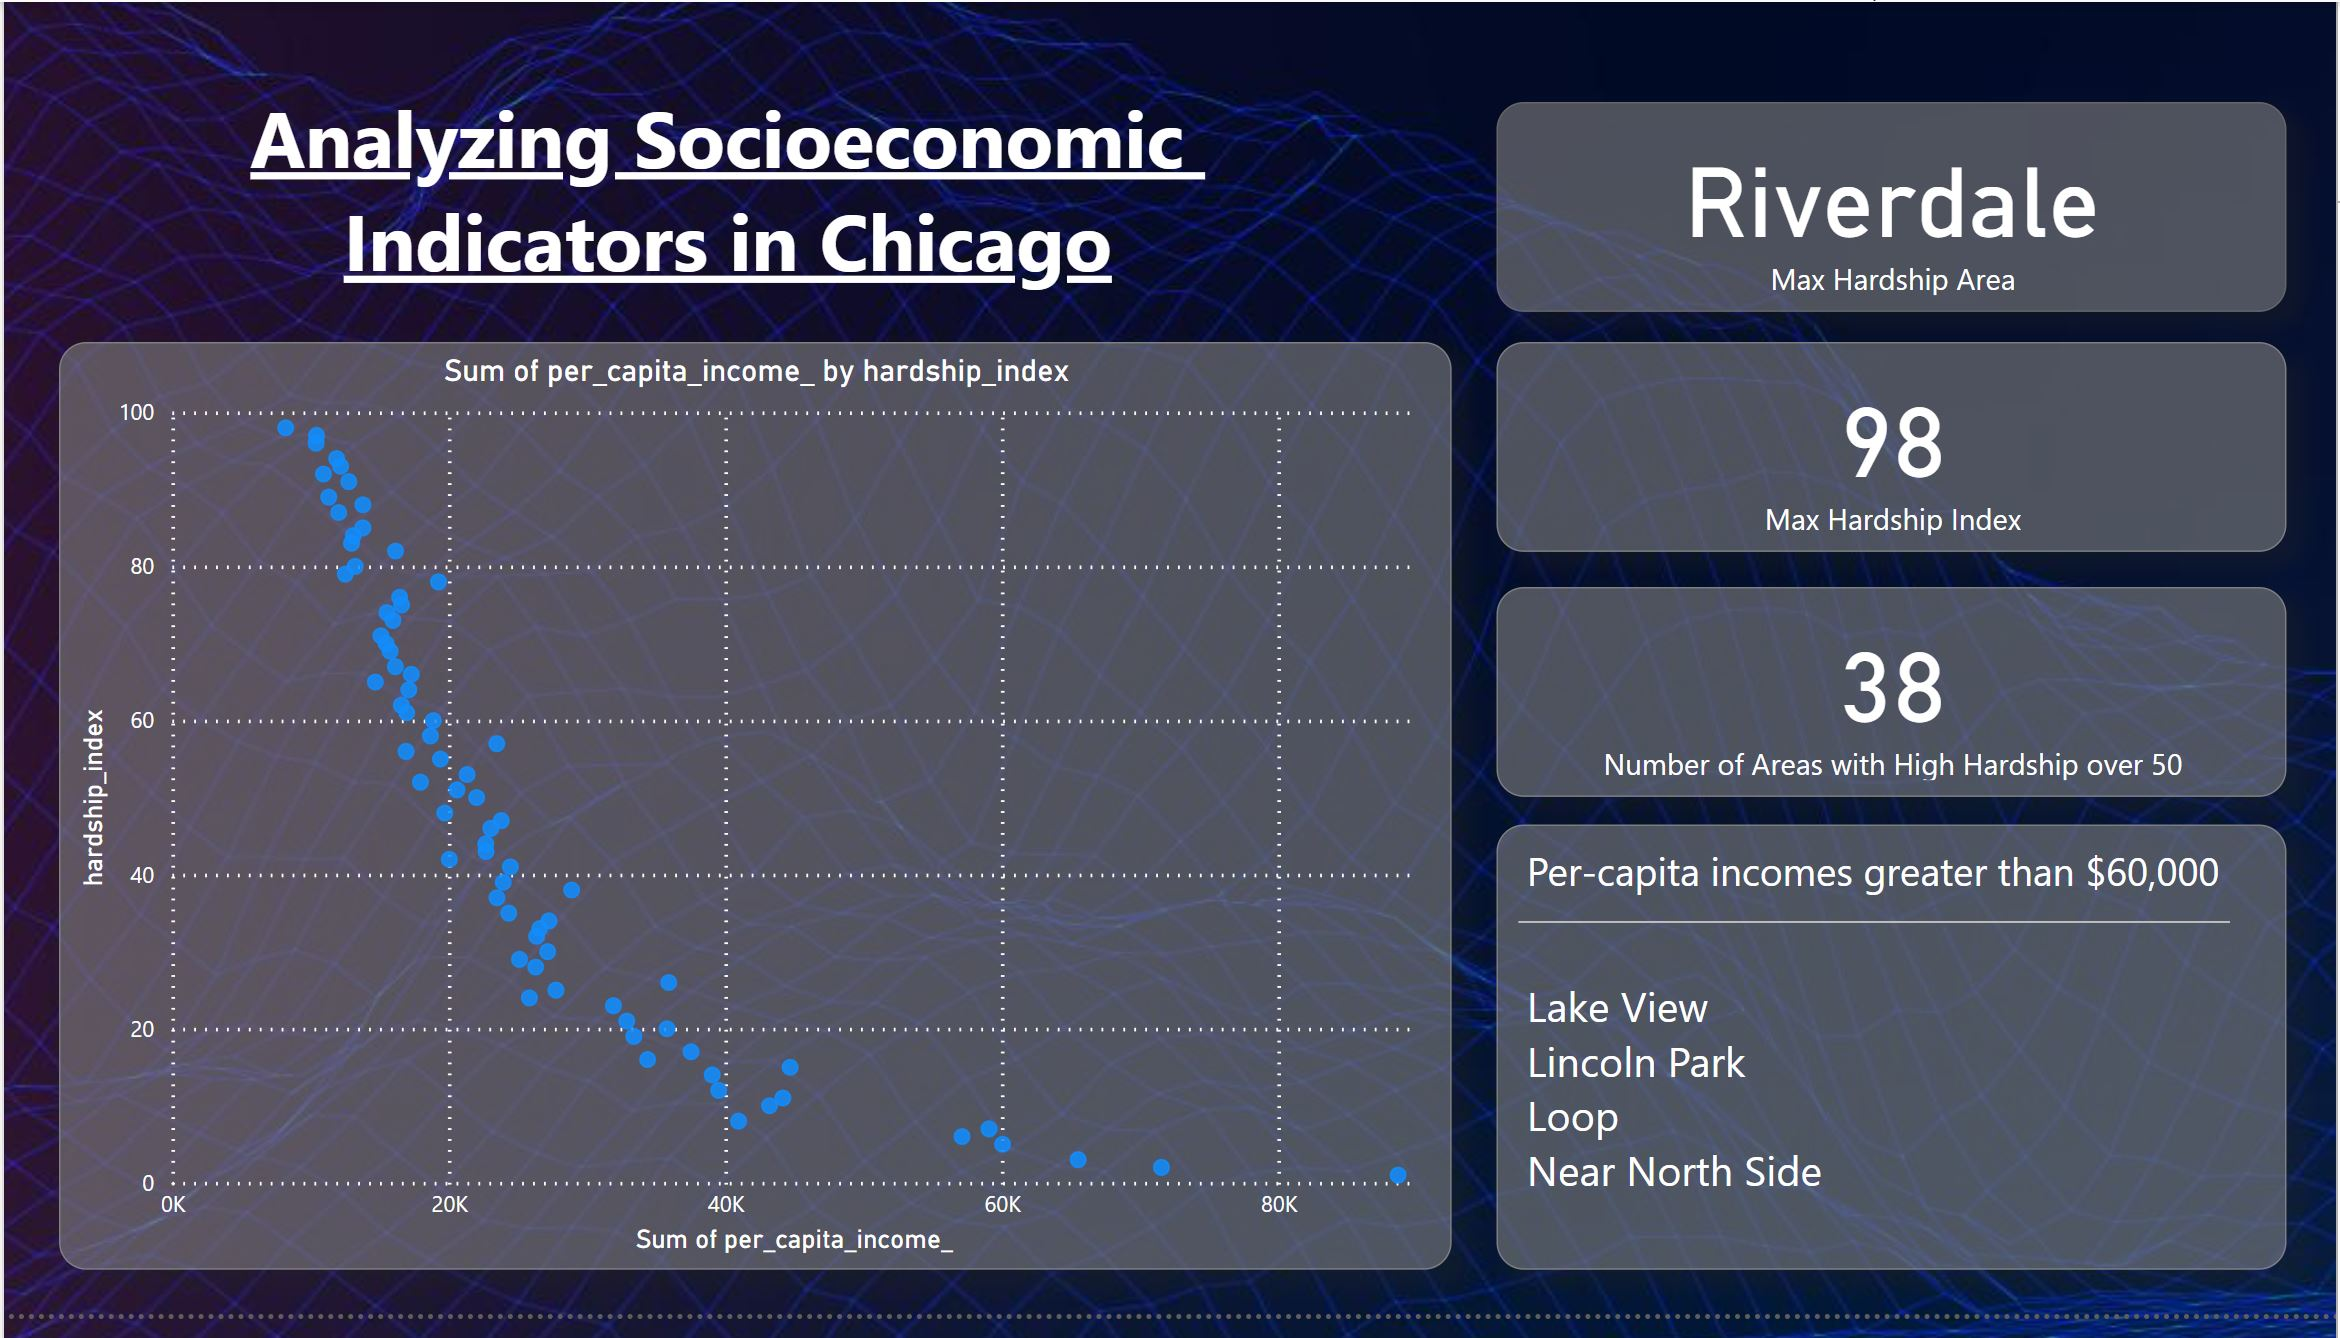

This screenshot's page, from the dashboard's own definition file:
{"tool":"powerbi","page":{"name":"Page 1","canvas":[1280,720],"ordinal":0},"visuals":[{"type":"scatterChart","fields":{"Y":["jcxq-k9xf.hardship_index"],"X":["Sum(jcxq-k9xf.per_capita_income_)"]},"box":[30.2,186.6,764.3,509.1],"z":0},{"type":"card","fields":{"Values":["jcxq-k9xf.Number of Areas with High Hardship over 50"]},"box":[819.2,321.1,433.6,115.3],"z":1000},{"type":"card","fields":{"Values":["jcxq-k9xf.Max Hardship Index"]},"box":[819.2,186.6,433.6,115.3],"z":2000},{"type":"card","fields":{"Values":["Min(jcxq-k9xf.Max Hardship Area)"]},"box":[819.2,54.9,433.6,115.3],"z":3000},{"type":"tableEx","fields":{"Values":["jcxq-k9xf.High Income Areas"]},"box":[819.2,451.5,433.6,244.3],"z":4000},{"type":"textbox","box":[15.1,39.8,764.3,146.8],"z":4001}]}

Visuals, with their boxes in screenshot pixels (x1, y1, x2, y2), scaled from the page's 1280x720 canvas onto the 2340x1338 screenshot:
scatterChart - jcxq-k9xf.hardship_index x Sum(jcxq-k9xf.per_capita_income_): (55,347,1452,1293)
card - jcxq-k9xf.Number of Areas with High Hardship over 50: (1498,597,2290,811)
card - jcxq-k9xf.Max Hardship Index: (1498,347,2290,561)
card - Min(jcxq-k9xf.Max Hardship Area): (1498,102,2290,316)
tableEx - jcxq-k9xf.High Income Areas: (1498,839,2290,1293)
textbox: (28,74,1425,347)
